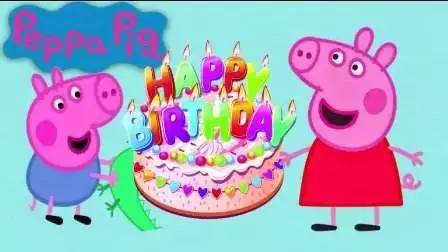Peppa: (288, 27, 424, 233)
